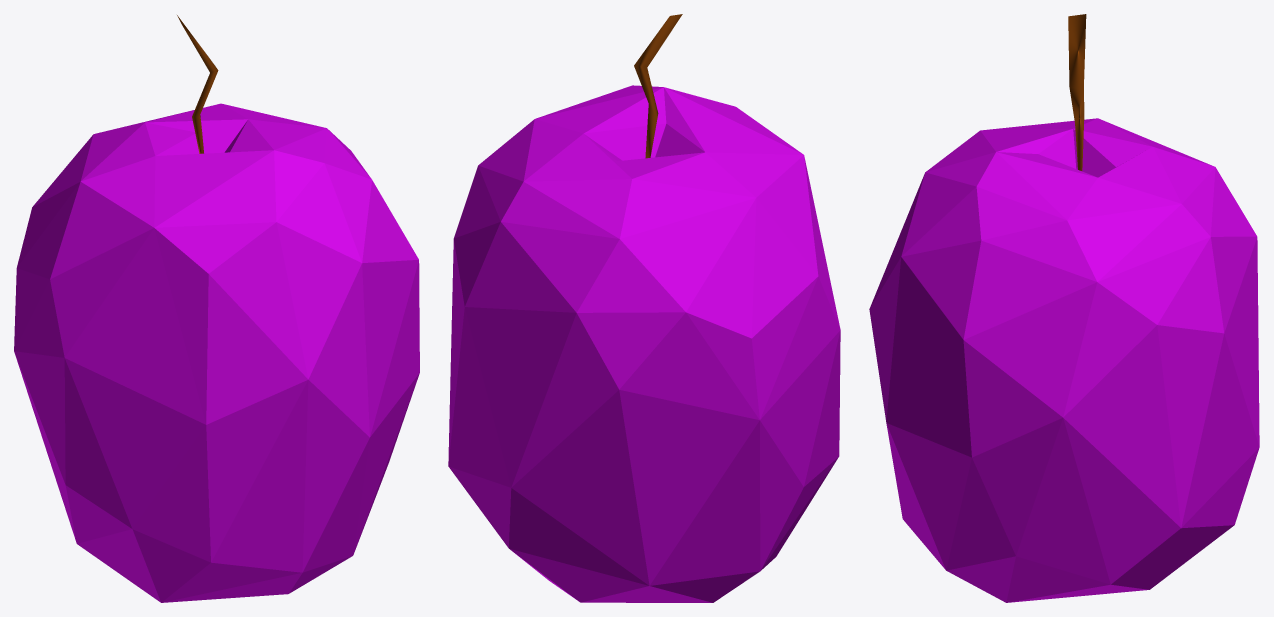
The model's file is BigBob.fbx.
3 renders of one model, left to right at view 1: azimuth 30°, elevation 25°; view 2: azimuth 150°, elevation 25°; view 3: azimuth 270°, elevation 25°, orthographic. The views are drawn at different scales.
Visible parts, largest first — view 1: Sphere.001, Cube; view 2: Sphere.001, Cube; view 3: Sphere.001, Cube.
Part boxes in pixels (<box>): Sphere.001: <box>14,103,419,602</box>; Cube: <box>177,15,218,153</box>; Sphere.001: <box>448,85,840,602</box>; Cube: <box>634,14,682,158</box>; Sphere.001: <box>869,118,1259,602</box>; Cube: <box>1068,14,1086,170</box>.
Size of the model in its own units: 370 by 551 by 363.
